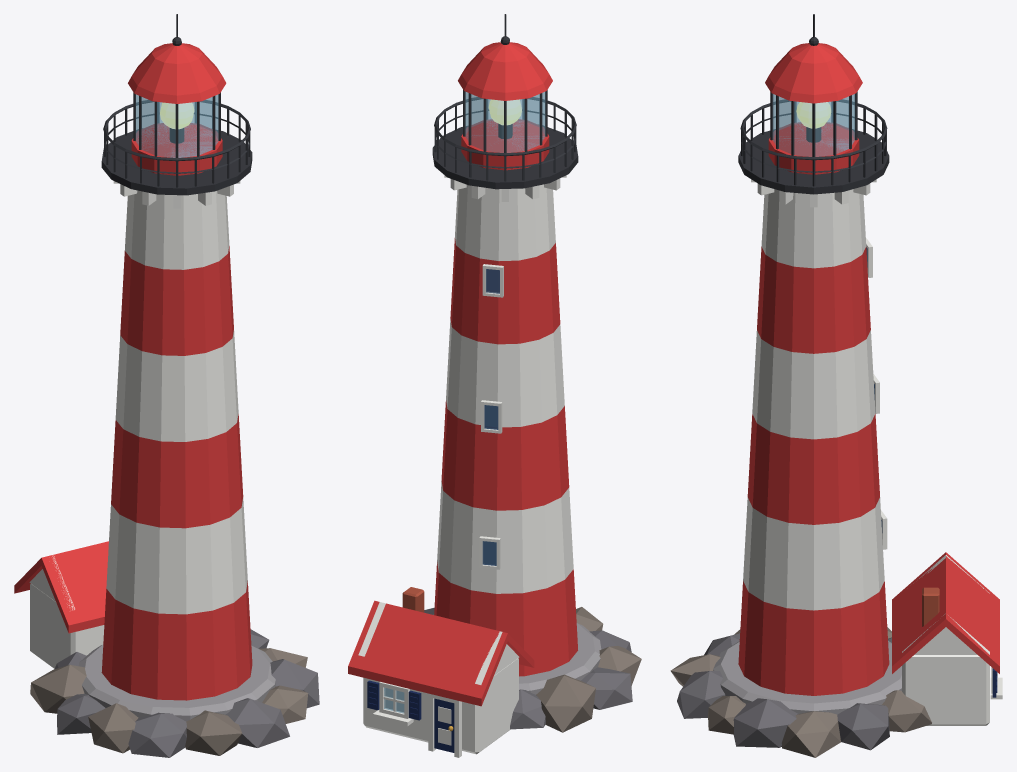
File: Lighthouse.fbx
3 views of the same model, side by side, from view 1: azimuth 30°, elevation 25°; view 2: azimuth 150°, elevation 25°; view 3: azimuth 270°, elevation 25° (orthographic). The views are drawn at different scales.
Visible parts, largest first — view 1: Lighthouse_Red, Lighthouse_White, Lighthouse_Charcoal, Lighthouse_StoneDark, Lighthouse_Rock, Lighthouse_Stone, Lighthouse_Glass, Lighthouse_NeonYellow; view 2: Lighthouse_Red, Lighthouse_White, Lighthouse_Charcoal, Lighthouse_Glass, Lighthouse_Rock, Lighthouse_StoneDark, Lighthouse_Stone, Lighthouse_Navy, Lighthouse_GlassDark, Lighthouse_NeonYellow; view 3: Lighthouse_Red, Lighthouse_White, Lighthouse_Charcoal, Lighthouse_StoneDark, Lighthouse_Rock, Lighthouse_Stone, Lighthouse_Glass, Lighthouse_NeonYellow, Lighthouse_Brick.
Part boxes in pixels (x1,y1,x2,y2): Lighthouse_Red: (14,43,252,700); Lighthouse_White: (29,181,247,668); Lighthouse_Charcoal: (101,14,252,195); Lighthouse_StoneDark: (54,629,319,757); Lighthouse_Rock: (30,648,308,755); Lighthouse_Stone: (78,644,275,721); Lighthouse_Glass: (135,94,218,157); Lighthouse_NeonYellow: (160,102,194,129); Lighthouse_Red: (348,42,577,706); Lighthouse_White: (358,175,573,757); Lighthouse_Charcoal: (432,14,578,189); Lighthouse_Glass: (384,91,545,713); Lighthouse_Rock: (536,607,641,732); Lighthouse_StoneDark: (424,607,632,729); Lighthouse_Stone: (519,623,601,694); Lighthouse_Navy: (367,680,454,752); Lighthouse_GlassDark: (482,269,499,565); Lighthouse_NeonYellow: (488,99,521,125); Lighthouse_Red: (738,43,999,695); Lighthouse_White: (743,179,1002,725); Lighthouse_Charcoal: (738,14,889,194); Lighthouse_StoneDark: (677,633,891,750); Lighthouse_Rock: (670,627,931,757); Lighthouse_Stone: (713,641,901,714); Lighthouse_Glass: (772,94,855,156); Lighthouse_NeonYellow: (796,102,831,128); Lighthouse_Brick: (922,587,939,626).
Size of the model in its own units: 23.24 by 60.23 by 26.41.
